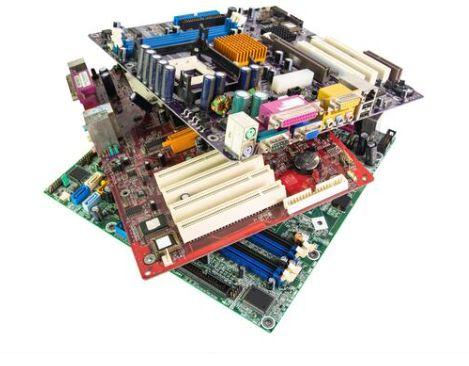electronic: (43, 5, 421, 335), (241, 10, 421, 125), (44, 145, 129, 247), (140, 12, 237, 53), (67, 58, 98, 110), (255, 7, 303, 40), (258, 131, 291, 154), (251, 90, 269, 118), (210, 94, 232, 116), (240, 139, 256, 160), (180, 193, 190, 200)
